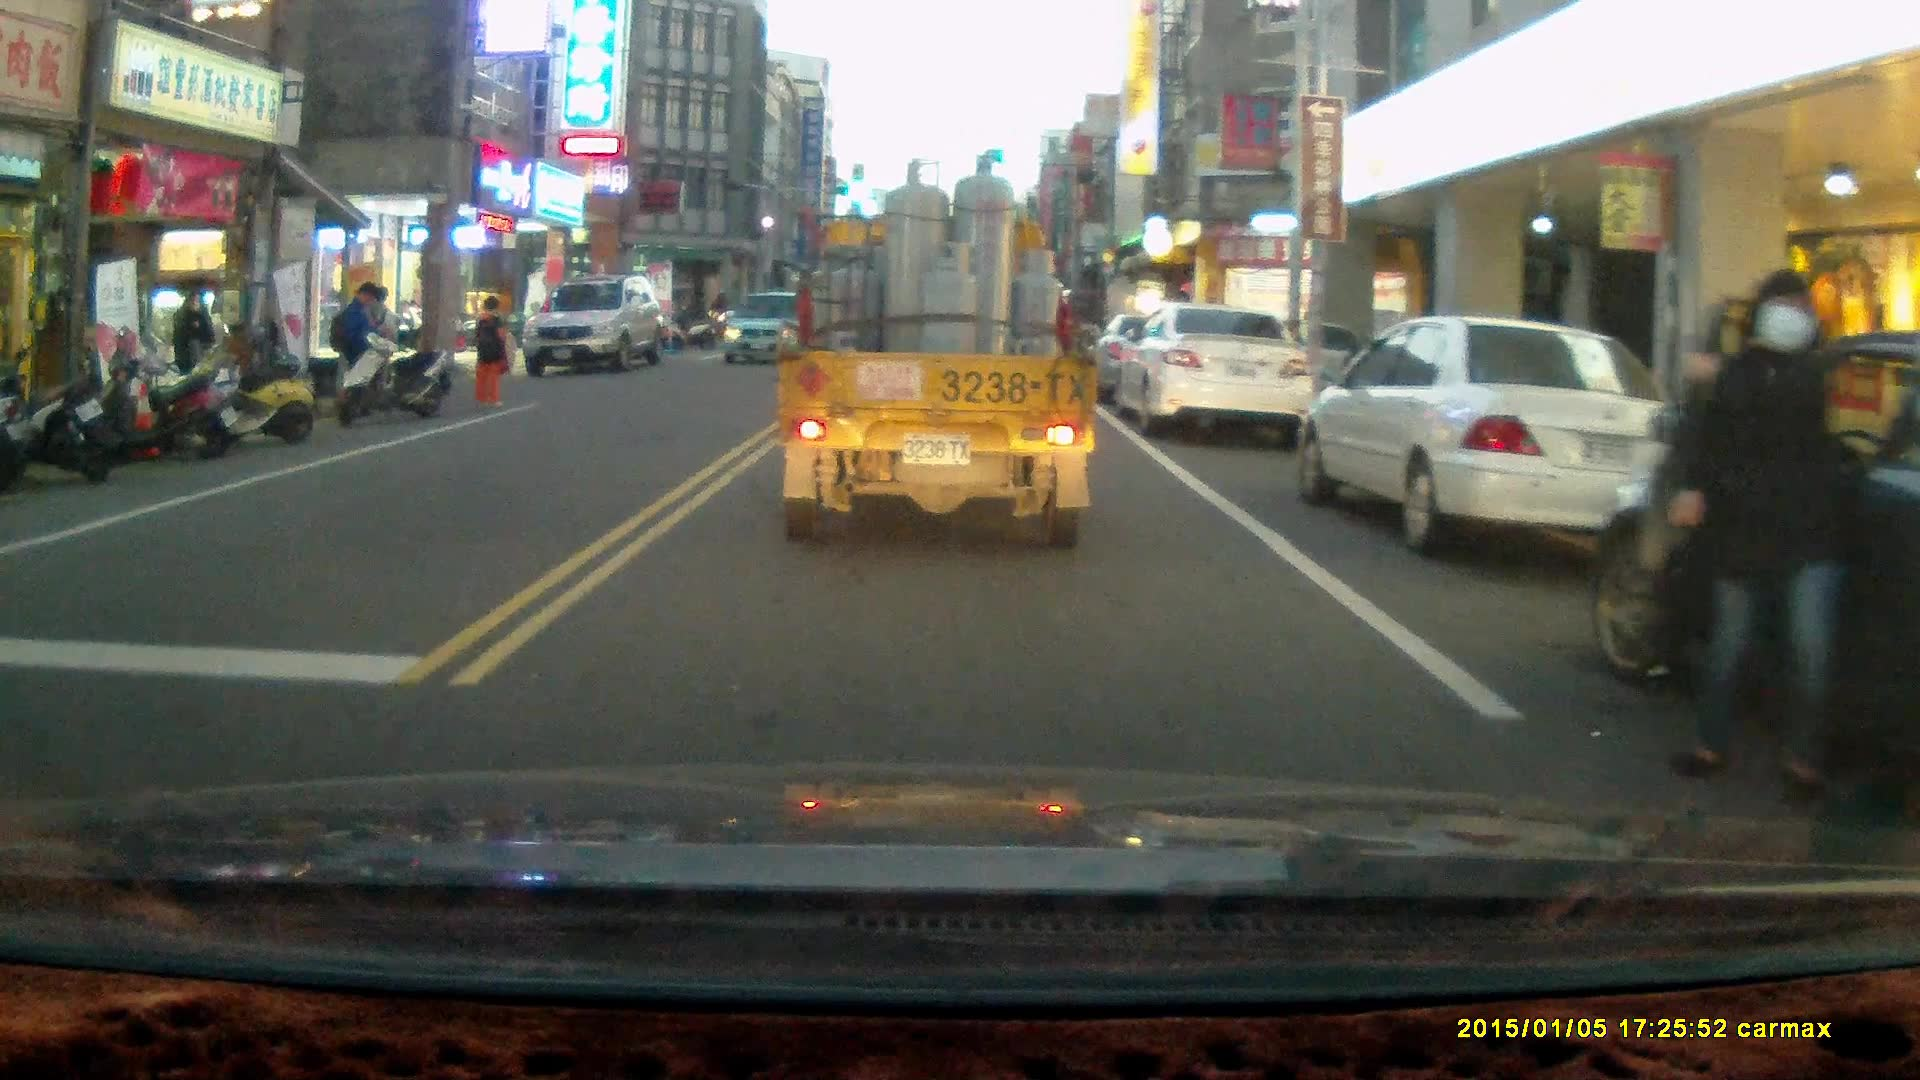pedestrian: (1662, 266, 1849, 808), (320, 279, 375, 414), (169, 285, 213, 424), (471, 292, 513, 410)
vehicle: (1587, 325, 1920, 796), (771, 153, 1101, 548), (1291, 313, 1710, 556), (1120, 304, 1313, 434), (525, 276, 675, 372), (722, 290, 820, 369)
